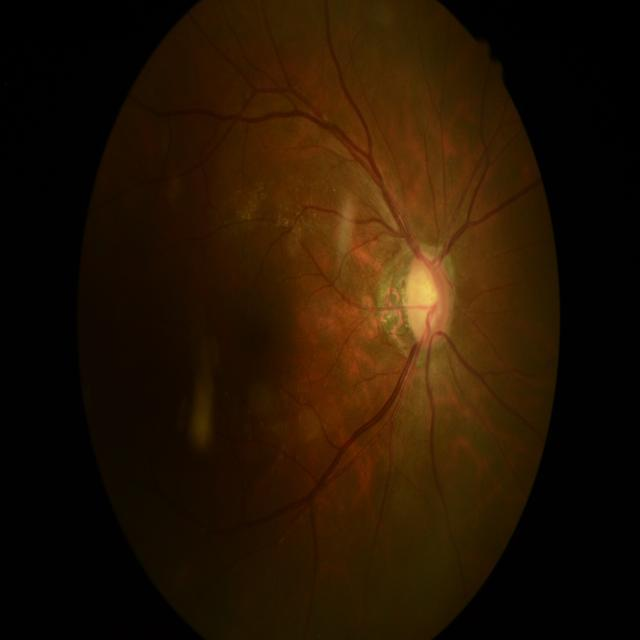cup: (409, 260, 442, 331)
disk: (406, 251, 453, 346)
